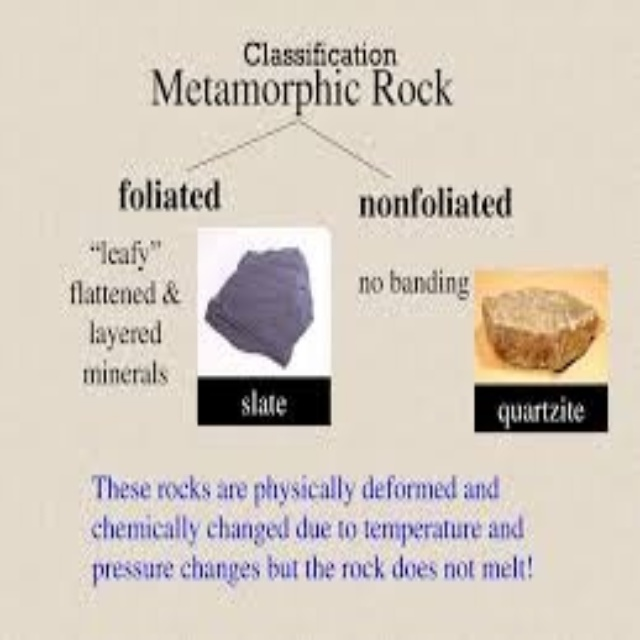obstacle: (205, 247, 311, 363), (482, 287, 596, 369)
